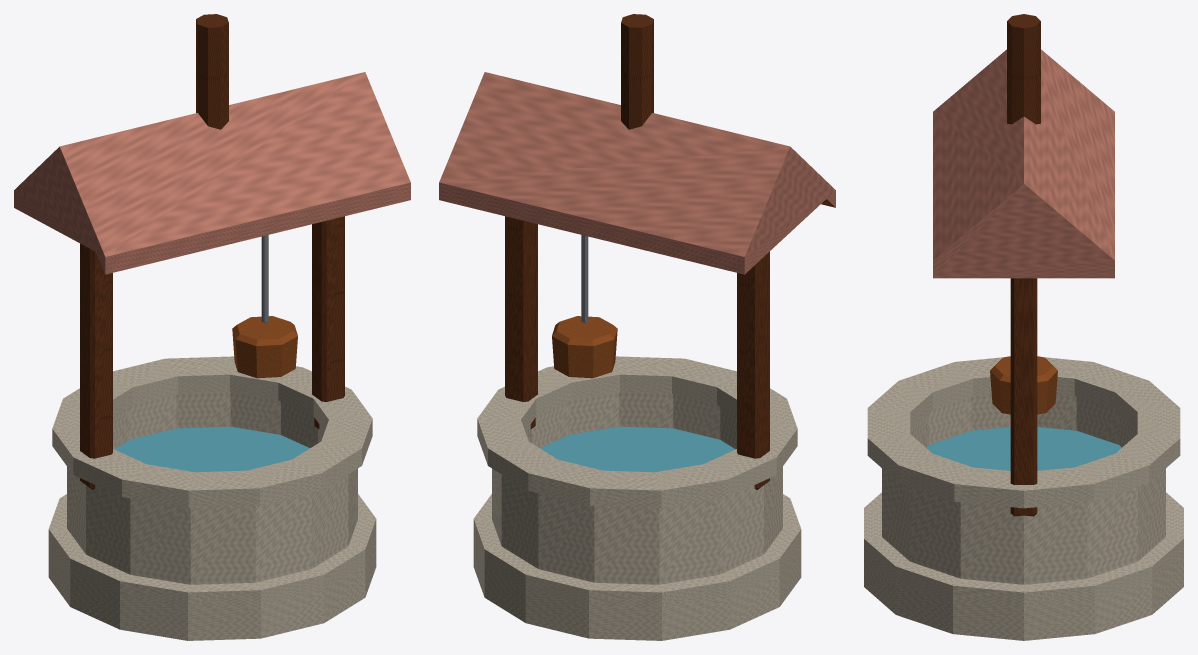
File: fantasy-mmo-city-and-townsfolk-city-well-4a25c00a__32769.glb
The picture shows the model from 3 angles, left to right: view 1: azimuth 30°, elevation 25°; view 2: azimuth 150°, elevation 25°; view 3: azimuth 270°, elevation 25°; orthographic projection.
Visible parts, largest first — view 1: city-well; view 2: city-well; view 3: city-well.
Part boxes in pixels (x1=…): city-well: x1=14, y1=14, x2=410, y2=640; city-well: x1=439, y1=14, x2=835, y2=640; city-well: x1=864, y1=14, x2=1183, y2=640.
Bounding box in the file's own units: 2.9 × 5 × 2.63.
6 materials, 4 textured.
